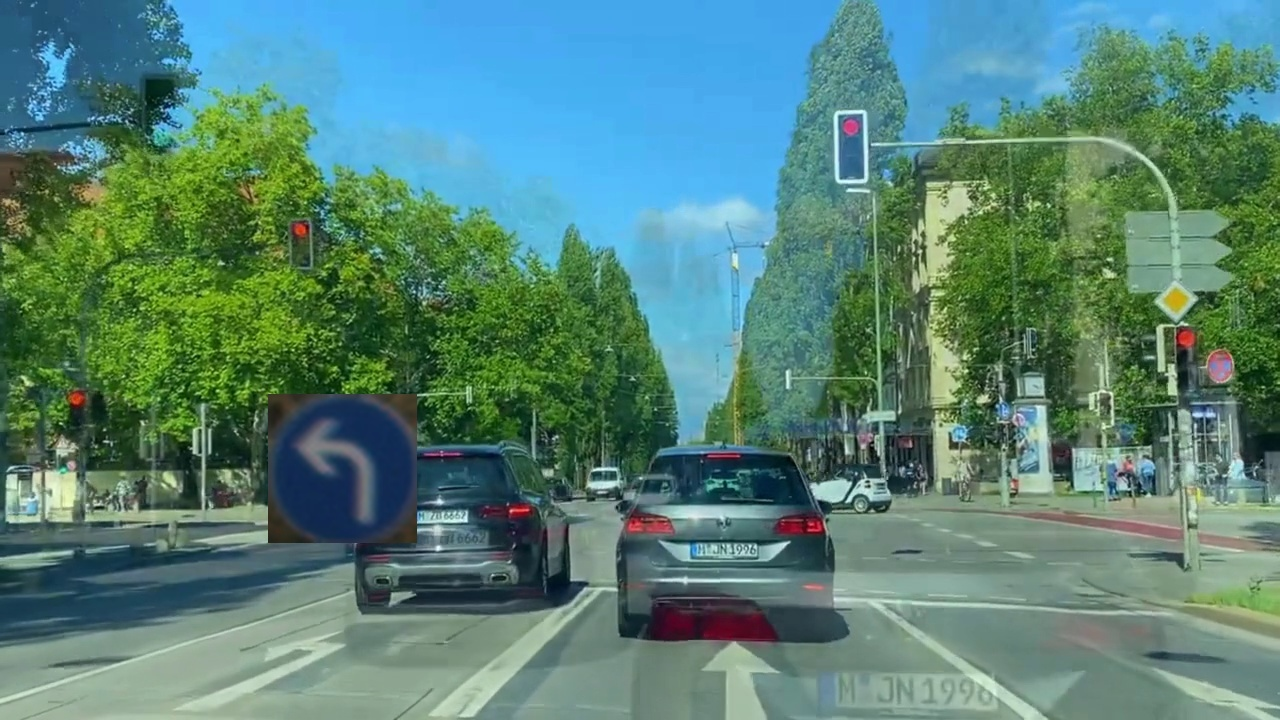Turn left: (268, 394, 417, 543)
